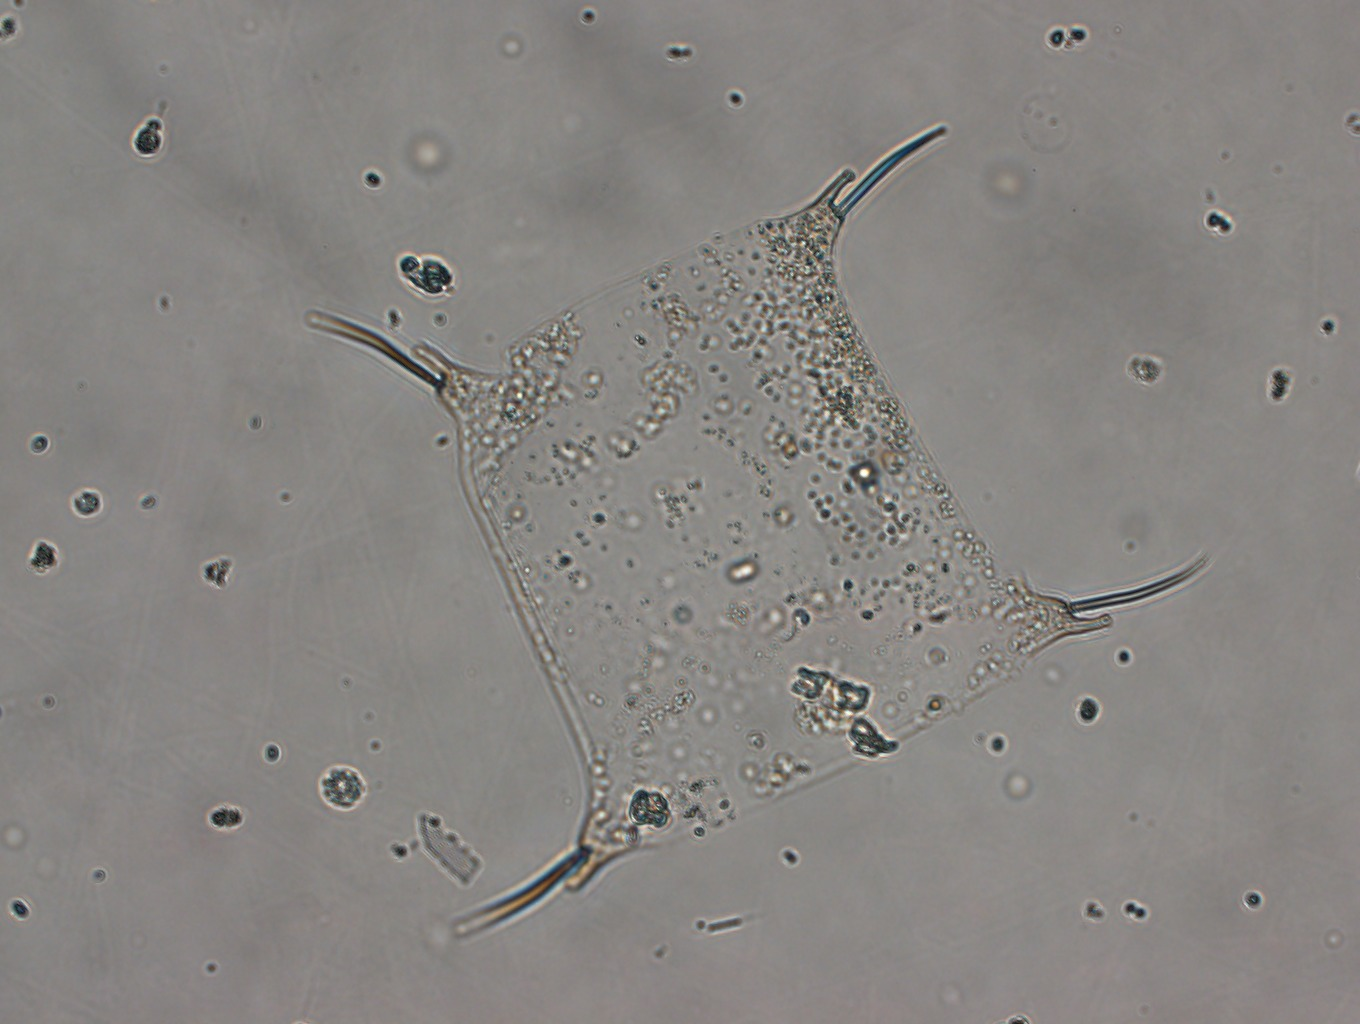biddulphia: (300, 123, 1212, 940)
